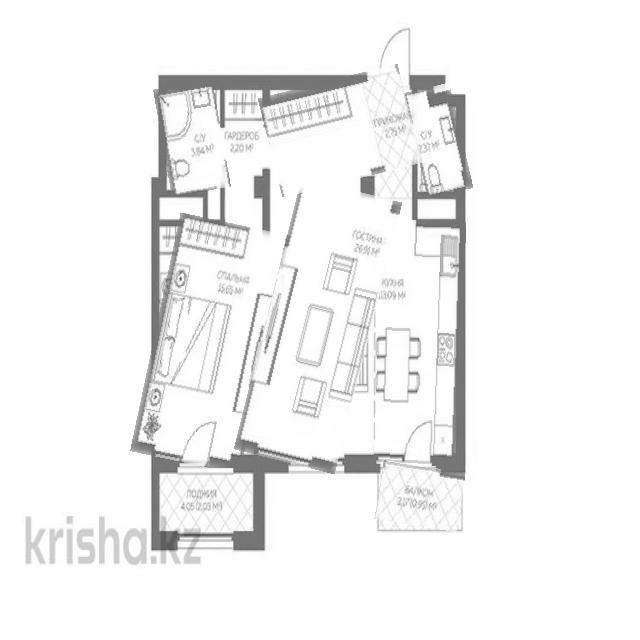balcony: (154, 468, 261, 541), (376, 463, 463, 529)
bathroom: (157, 81, 227, 194), (409, 85, 468, 197)
hallway: (264, 72, 418, 190)
kitchen: (376, 220, 464, 465)
living_room: (250, 182, 386, 470), (142, 218, 278, 470)
other: (223, 79, 267, 158)
